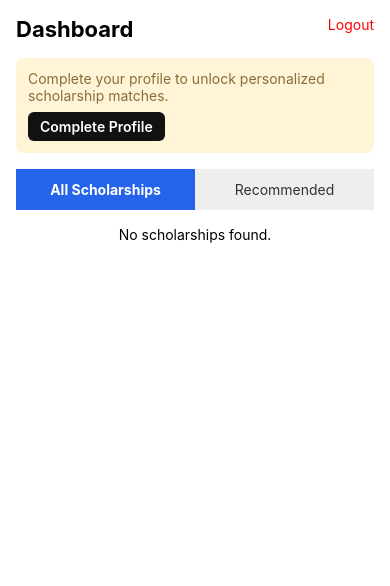
Test: HomeScreen › shows recommended locked state
The image size is (390, 586).
Expected: the text "Dashboard" is shown, [16,16,133,42]
What coordinates should you click on to do the following:
click the text "Recommended"
I would click on:
 (284, 190)
Its box is [235,181,334,198].
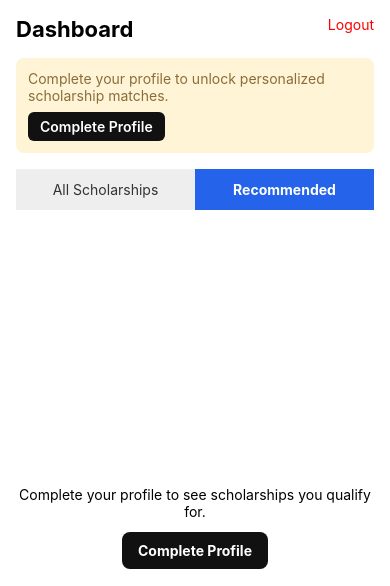
Now the text "Complete your profile to see scholarships you qualify for." is shown, box [16,486,374,520]
